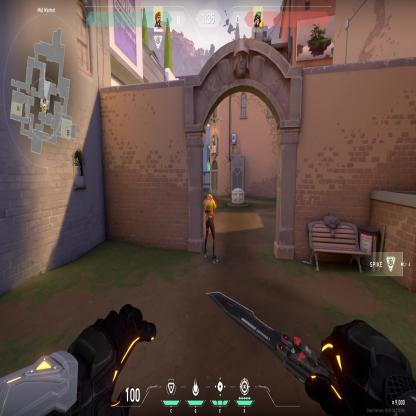enemy: (203, 186, 219, 266)
